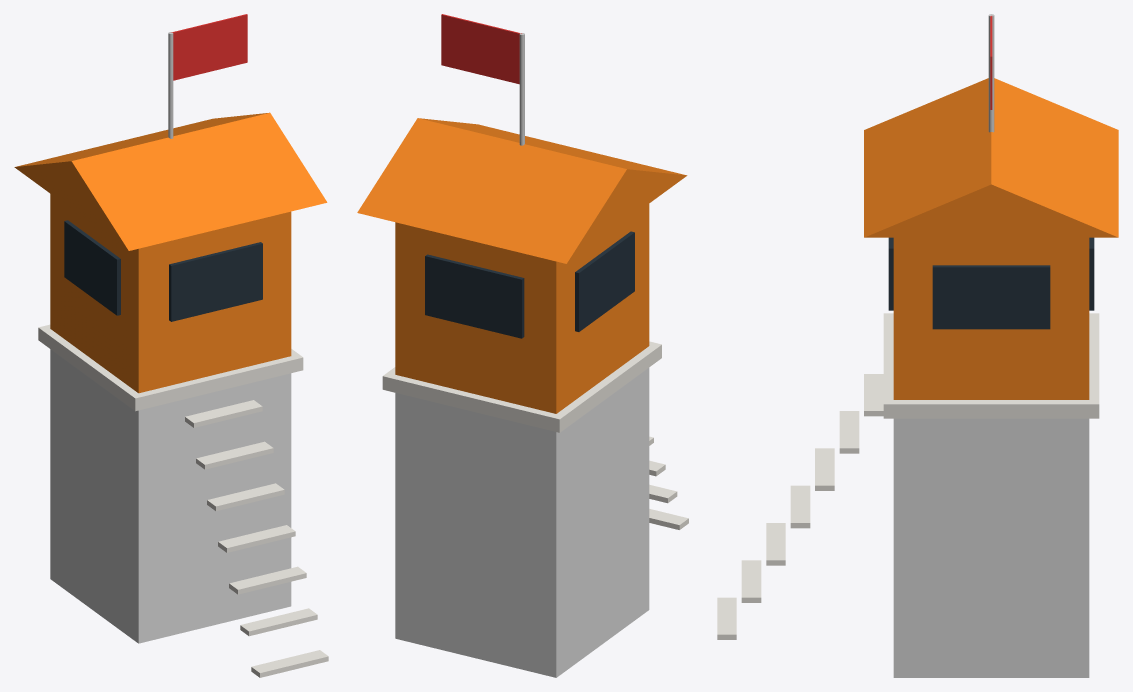
The model's file is puesto_socorrista.glb.
The picture shows the model from 3 angles, left to right: view 1: azimuth 30°, elevation 25°; view 2: azimuth 150°, elevation 25°; view 3: azimuth 270°, elevation 25°; orthographic projection. The views are drawn at different scales.
Visible parts, largest first — view 1: puesto_socorrista_Malla, COL_0; view 2: puesto_socorrista_Malla, COL_0; view 3: puesto_socorrista_Malla, COL_0.
Boxes of the visible parts, x1,y1,x2,y2 form: puesto_socorrista_Malla: [14, 14, 328, 677]; COL_0: [50, 349, 291, 643]; puesto_socorrista_Malla: [357, 14, 688, 529]; COL_0: [395, 368, 649, 677]; puesto_socorrista_Malla: [717, 14, 1118, 639]; COL_0: [893, 418, 1089, 677].
Bounding box in the file's own units: 2.6 × 7.01 × 4.1.
